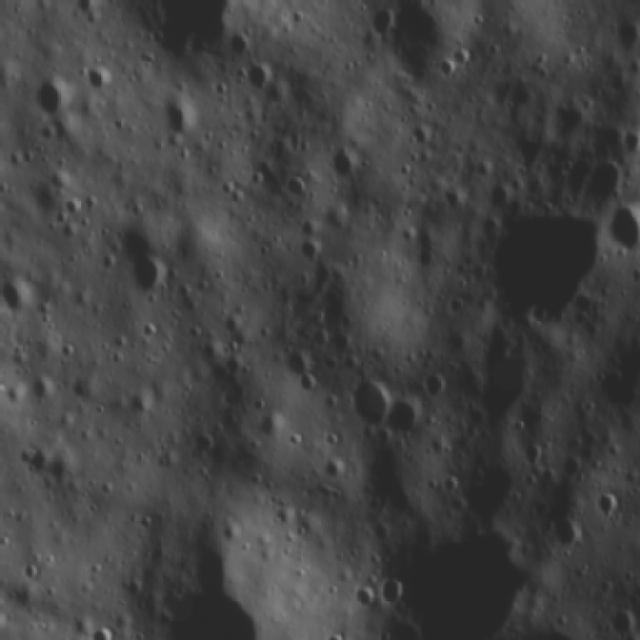crater: (484, 203, 605, 329), (379, 4, 463, 81), (343, 372, 391, 434), (23, 65, 71, 117), (158, 91, 200, 142), (582, 156, 626, 204), (384, 394, 424, 446), (598, 202, 637, 255), (548, 95, 594, 139), (128, 256, 170, 304), (541, 508, 588, 549), (2, 270, 40, 319), (327, 138, 364, 188), (242, 57, 282, 98), (78, 58, 117, 94), (376, 572, 410, 612), (360, 2, 397, 38), (272, 342, 310, 376), (592, 483, 625, 522), (222, 21, 255, 59), (278, 172, 310, 210), (605, 604, 637, 640), (420, 368, 451, 401), (341, 580, 373, 606), (294, 238, 320, 267), (77, 620, 117, 638), (291, 216, 318, 242), (296, 370, 324, 395)
